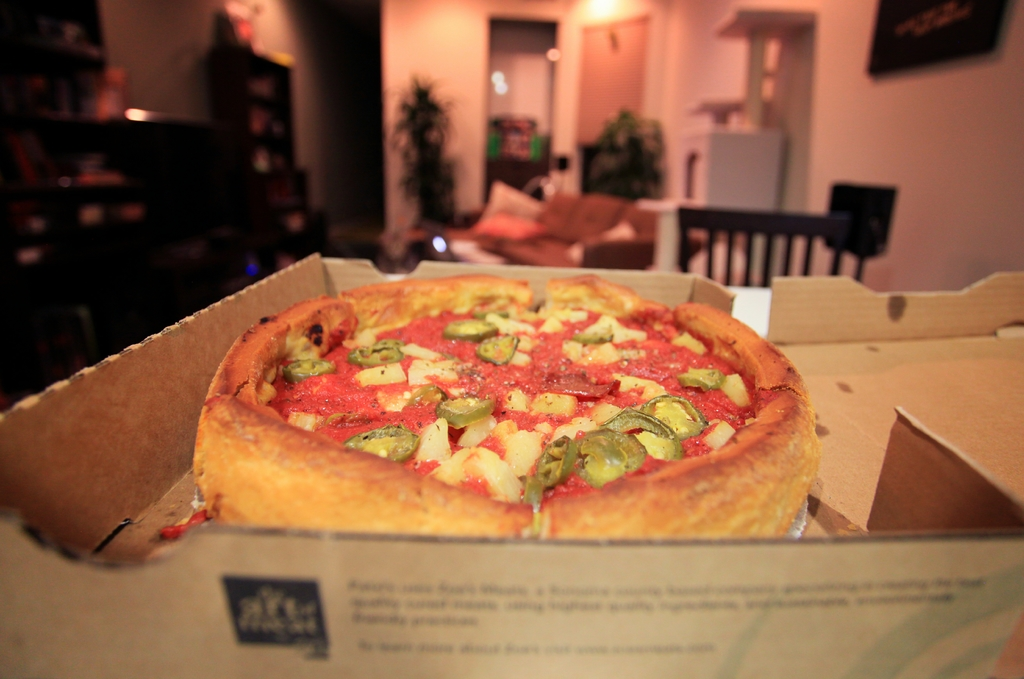Pizza: (201, 257, 805, 558)
